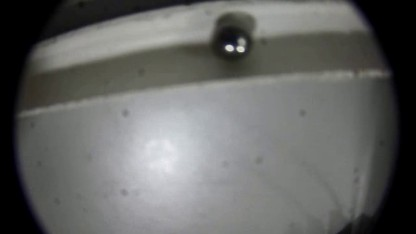gangzhu: (213, 27, 253, 61)
